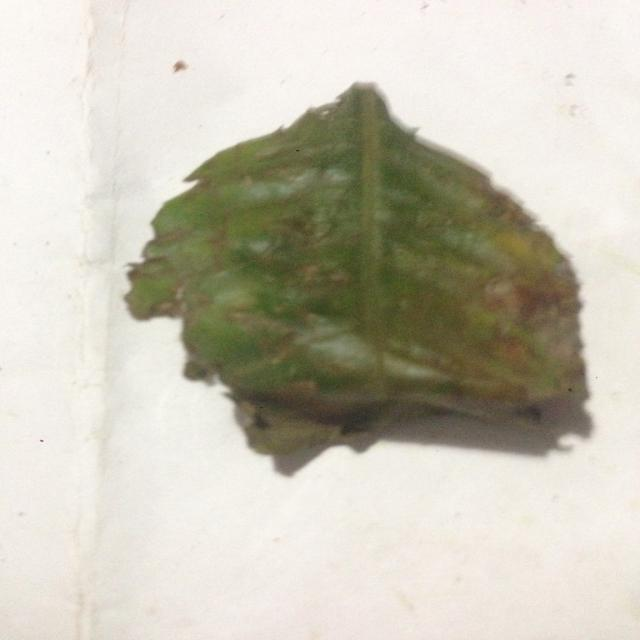Red Leaf Spot: (90, 61, 603, 467)
